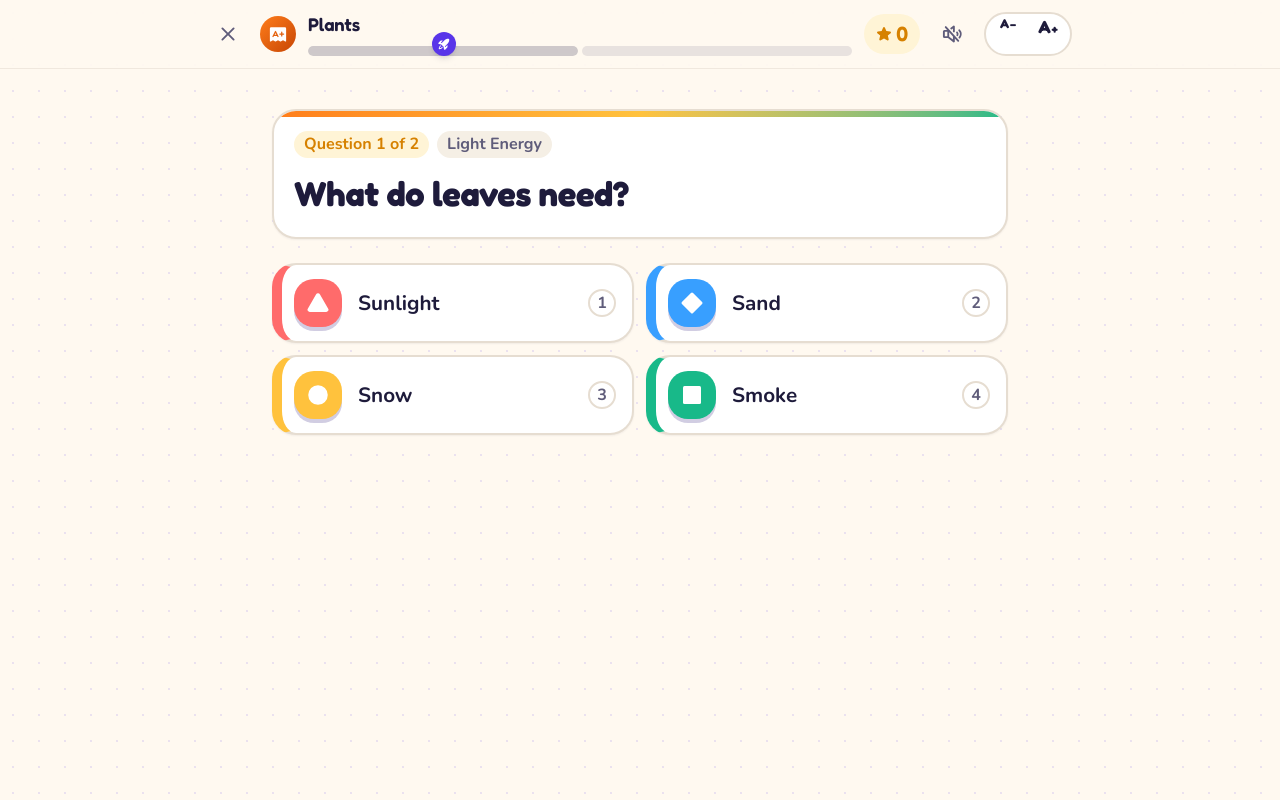
a quiz in each look › gives Year 4–6 points to win
Click the button "Sunlight 1": x=318, y=303 [272, 263, 634, 343]
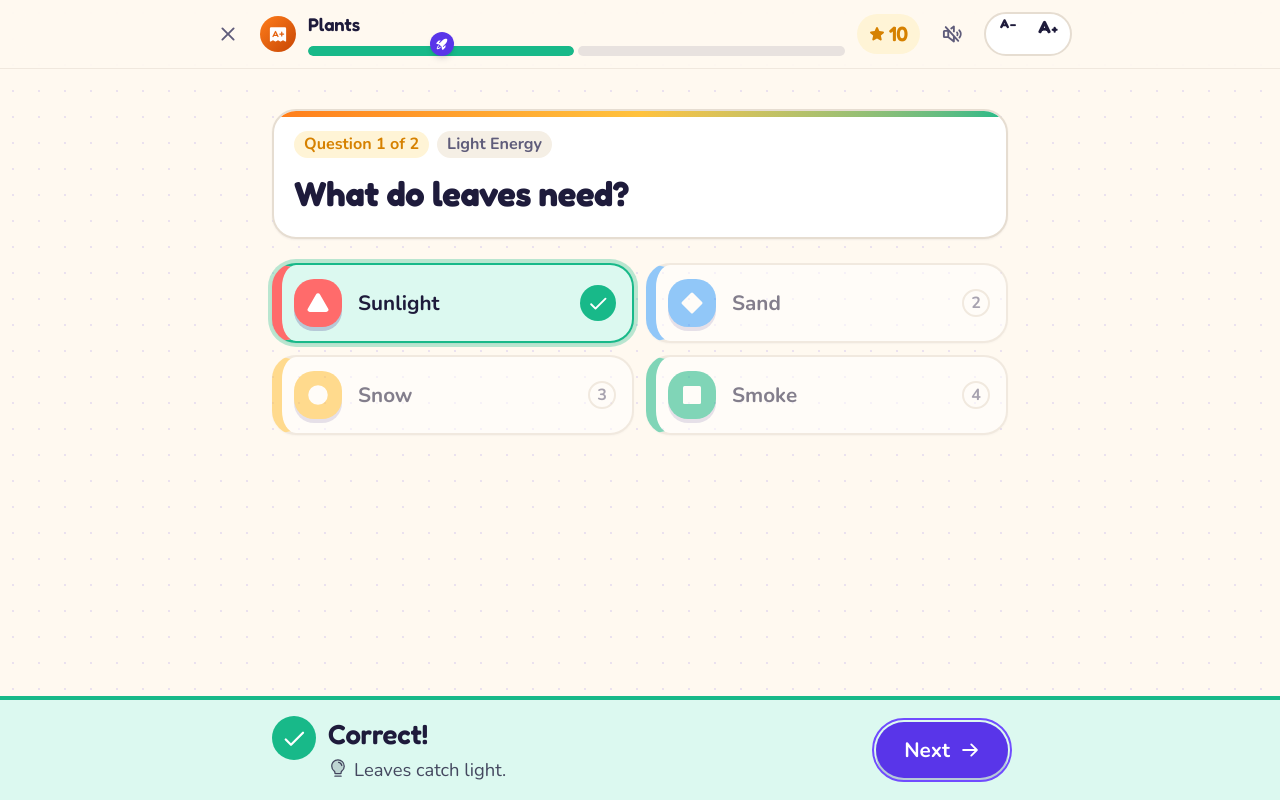
Check: the element named "10 points" is shown, box [857, 14, 920, 54]
